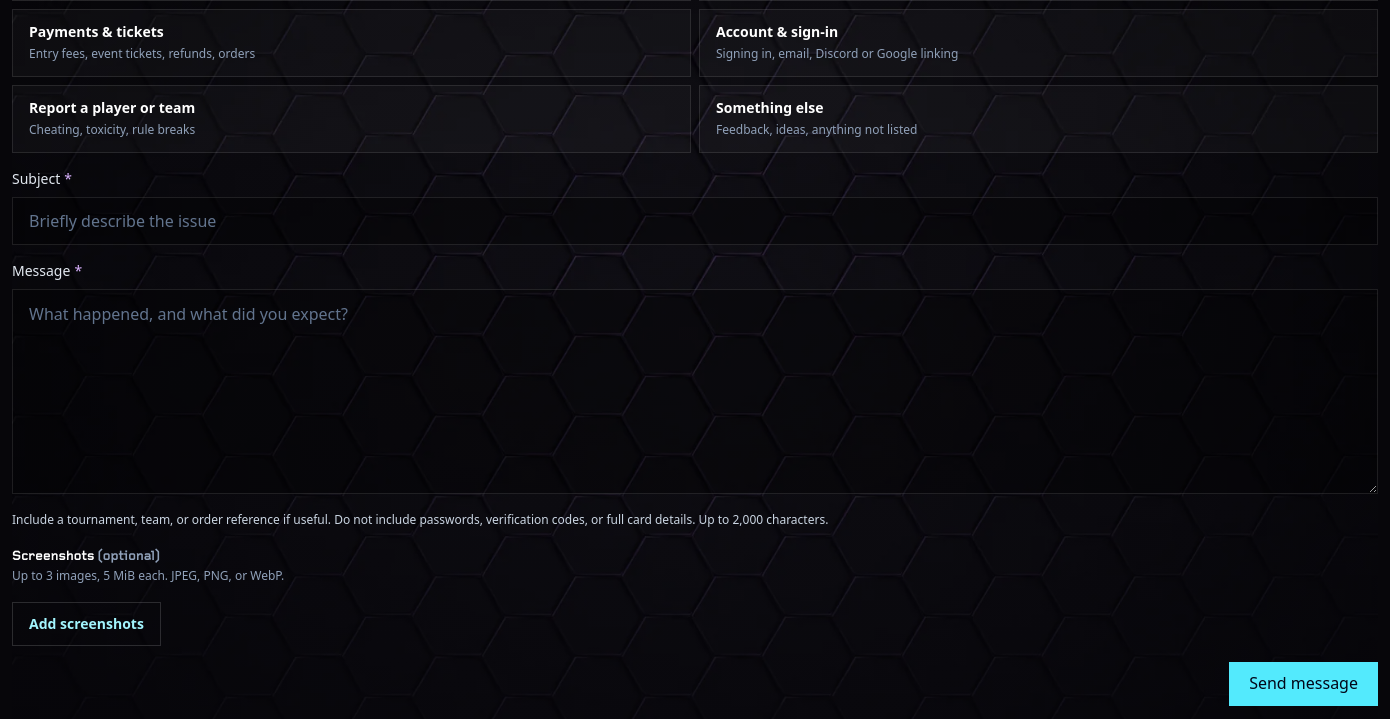
Test case: support inbox rendered states › associates empty-composer errors with the subject input
(page scrolled)
Click the button "Send message": coordinates (1304, 684) [1229, 662, 1378, 706]
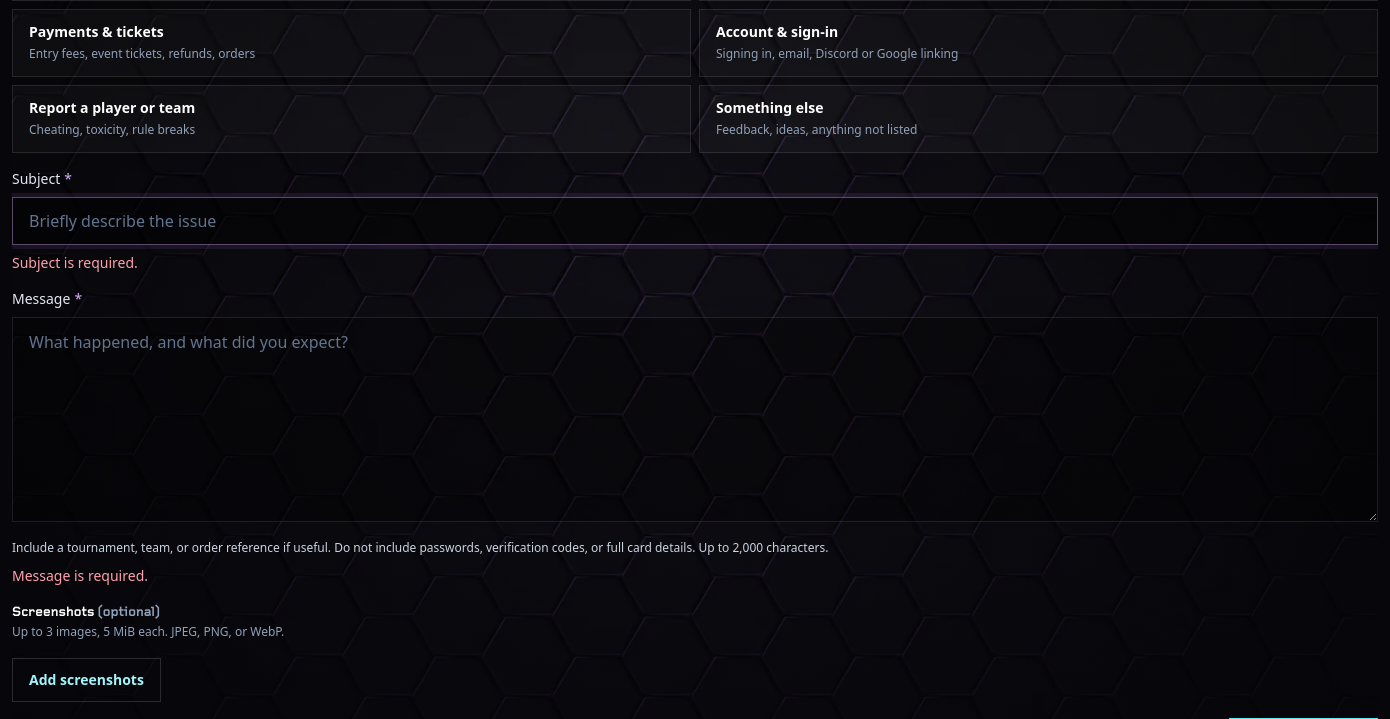
Check: the text "Subject is required." is shown, box [12, 253, 138, 272]
